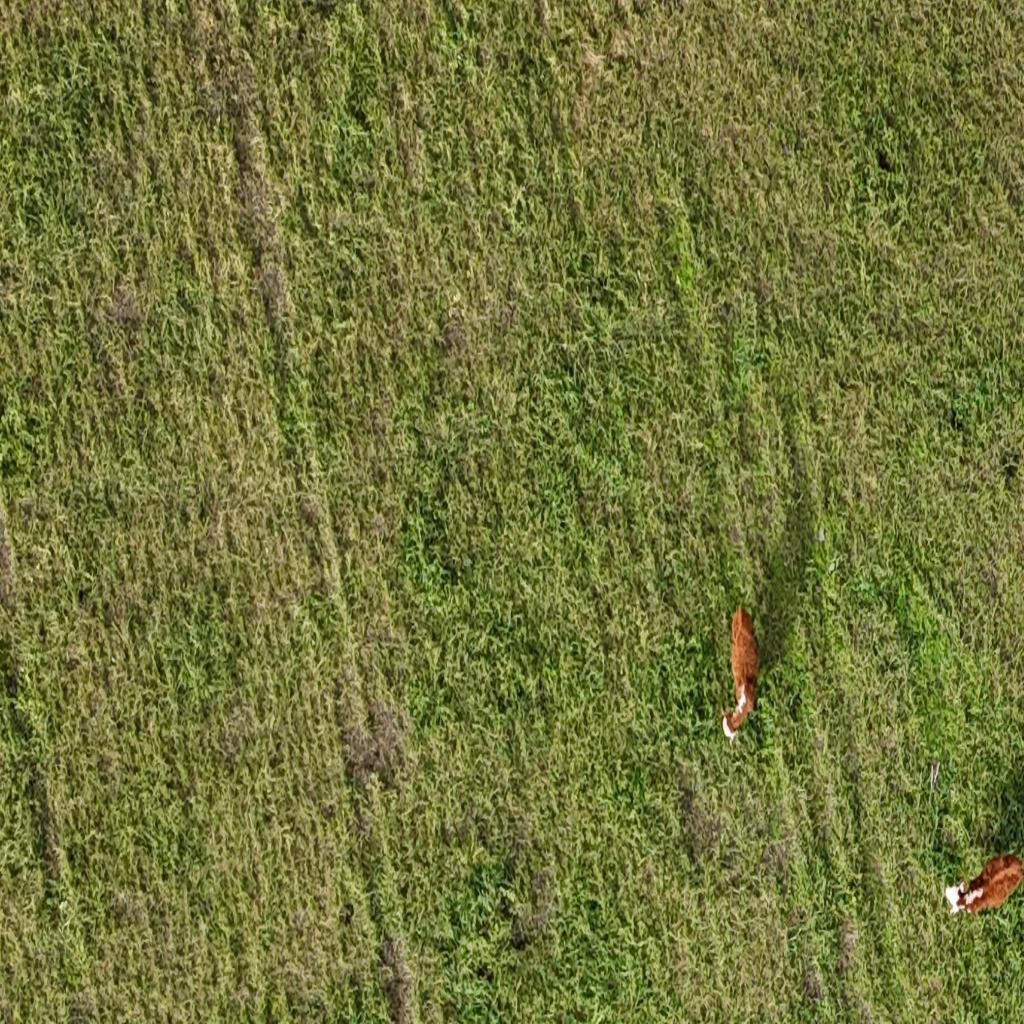cow: (941, 843, 1024, 922), (720, 603, 764, 742)
